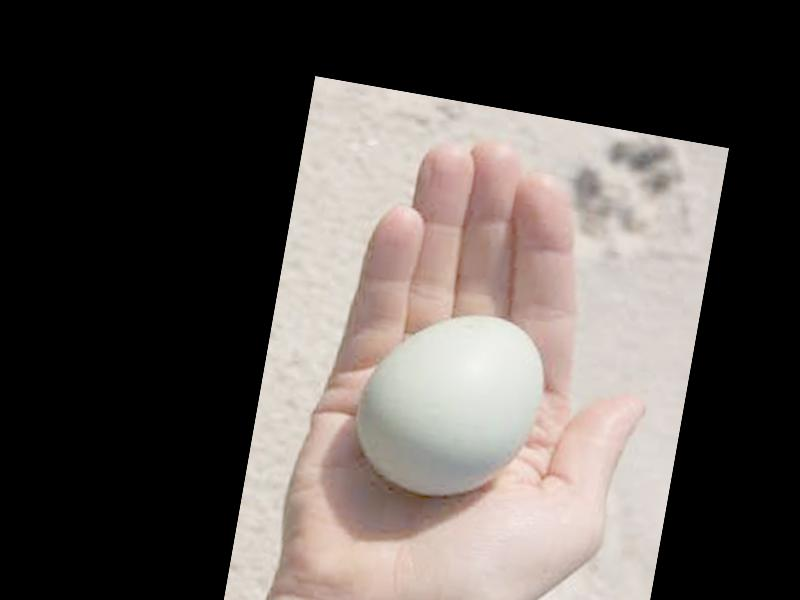Eggs: (348, 294, 552, 507)
